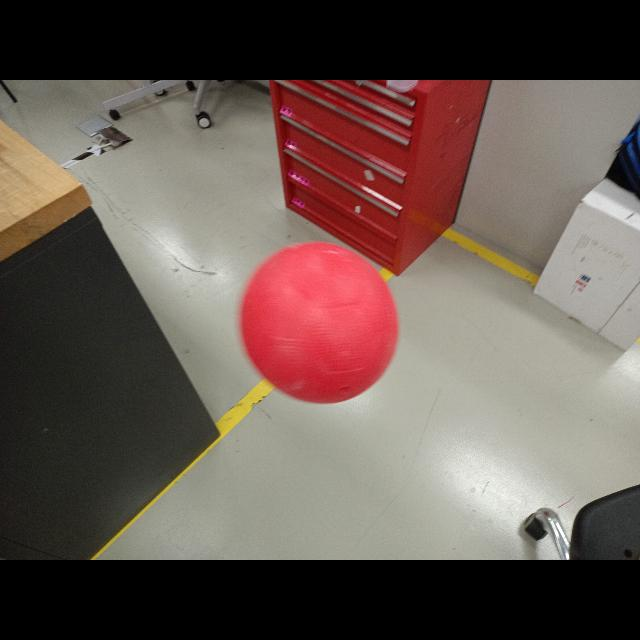R: (241, 242, 405, 402)
